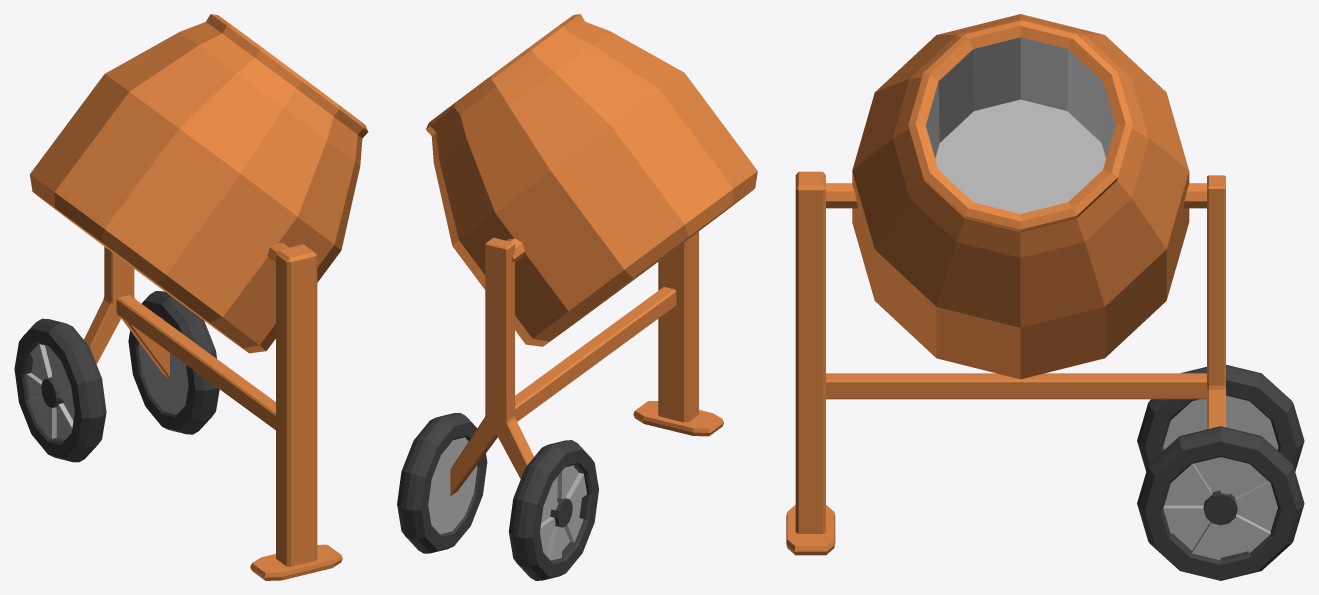
The model's file is cement_mixer.glb.
The picture shows the model from 3 angles, left to right: view 1: azimuth 30°, elevation 25°; view 2: azimuth 150°, elevation 25°; view 3: azimuth 270°, elevation 25°; orthographic projection. The views are drawn at different scales.
Visible parts, largest first — view 1: Cement Mixer2; view 2: Cement Mixer2; view 3: Cement Mixer2.
Boxes of the visible parts, x1=… form: Cement Mixer2: x1=14, y1=14, x2=368, y2=580; Cement Mixer2: x1=397, y1=14, x2=757, y2=580; Cement Mixer2: x1=786, y1=14, x2=1304, y2=580.
Bounding box in the file's own units: 1.01 × 1.56 × 1.36.
